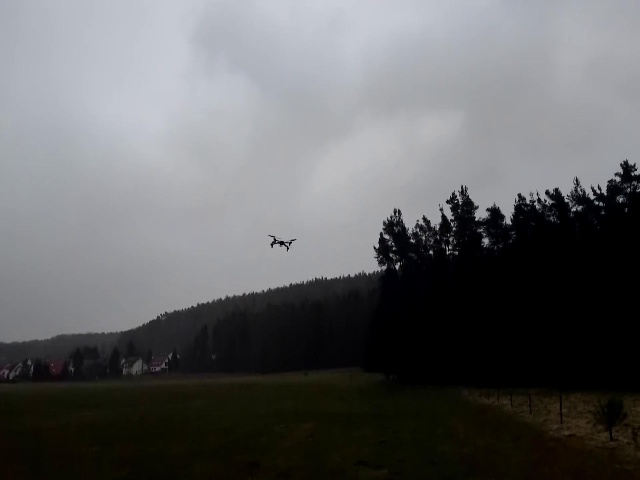drone: (266, 234, 296, 251)
